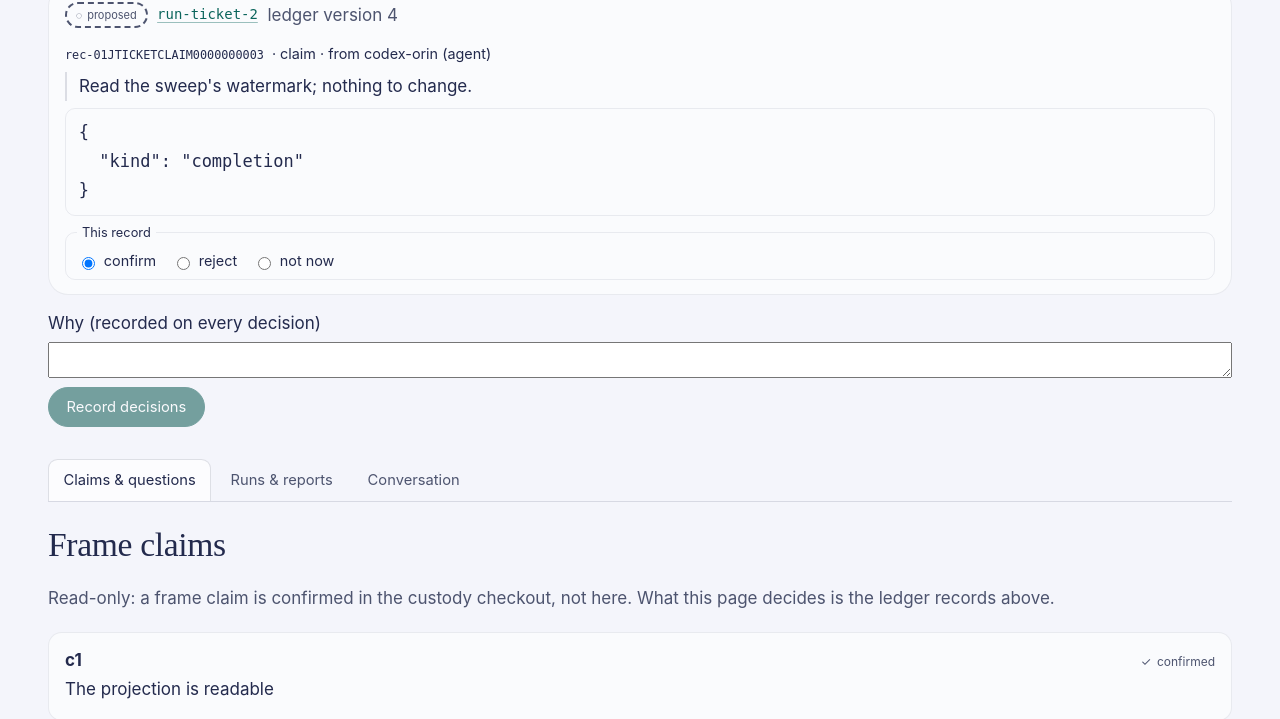
Test: TicketView claim reviews (task t12) › leaves a decided record reading proposed, with the review beside it
(page scrolled)
Type "read the qualification" into the text box labelled "Why (recorded on every decision)" at x=640, y=360, box [48, 342, 1232, 378]
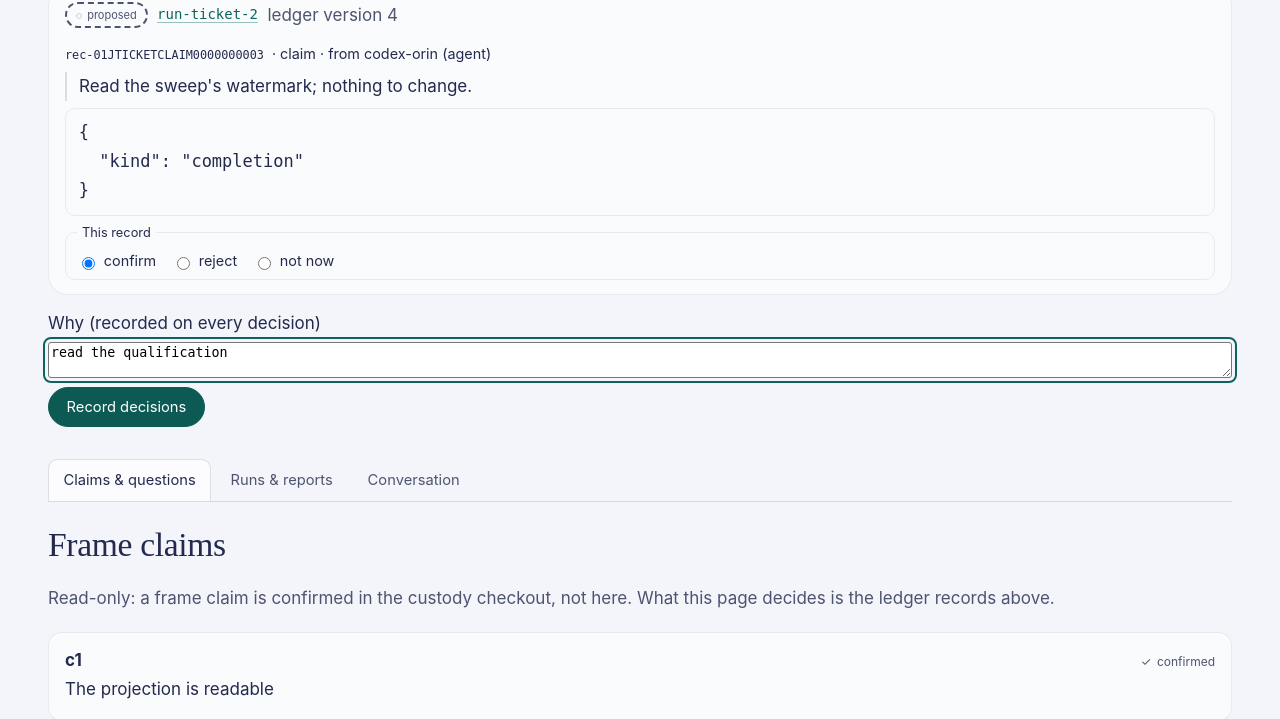
Click the button "Record decisions" at x=126, y=407, box [48, 387, 205, 427]
(page scrolled)
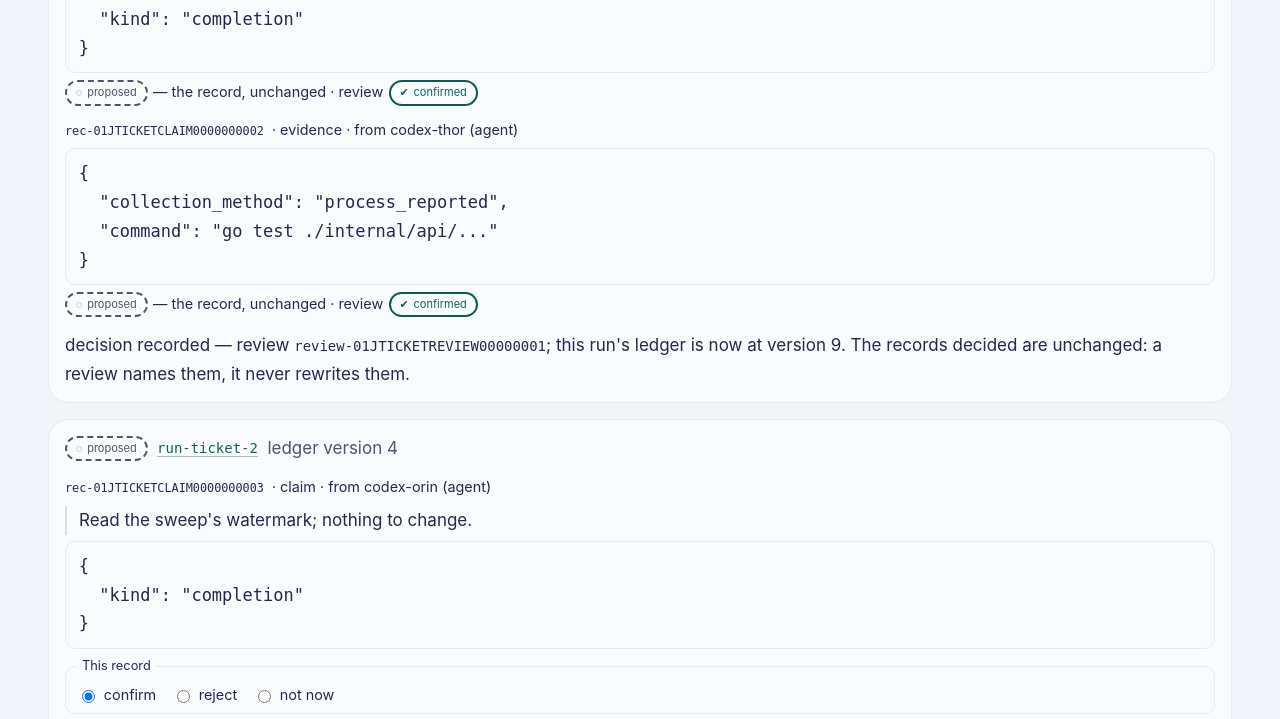
Expected: the element showing "◌ proposed" below "rec-01JTICKETCLAIM0000000001" is shown, [65, 80, 148, 106]
Expected: the element showing "✔ confirmed" below "rec-01JTICKETCLAIM0000000001" is shown, [389, 80, 478, 106]
